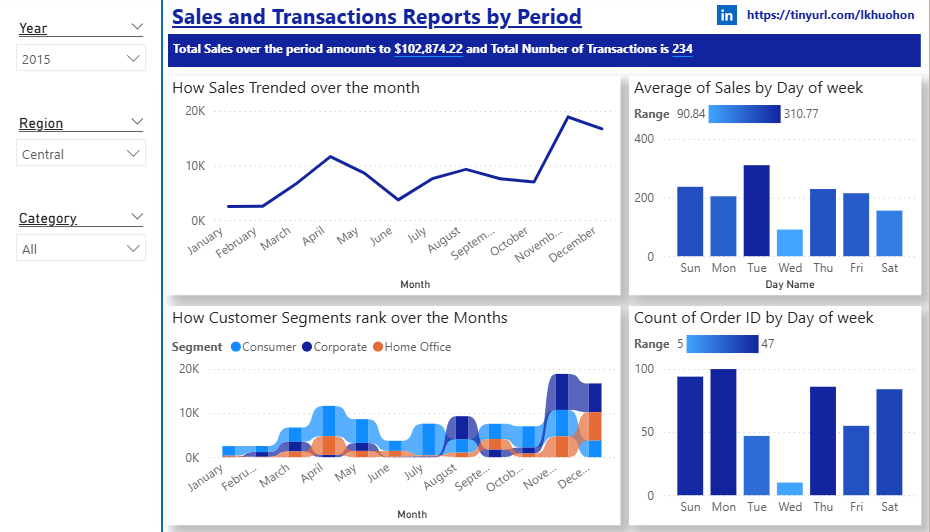

What the dashboard file says about the page in this screenshot:
{"tool":"powerbi","page":{"name":"Periodic Report","canvas":[929,537],"ordinal":1},"visuals":[{"type":"shape","box":[157.2,0,12,537],"z":0},{"type":"textbox","box":[167.7,0,435.2,38.1],"z":1000},{"type":"textbox","box":[169,38,752,33],"z":2000},{"type":"lineChart","title":"How Sales Trended over the month","fields":{"Y":["Sum(Orders.Sales)"],"Category":["Orders.Order Date.Variation.Date Hierarchy.Month"]},"box":[168,80,453,219],"z":3000},{"type":"ribbonChart","title":"How Customer Segments rank over the Months","fields":{"Category":["Orders.Order Date.Variation.Date Hierarchy.Month"],"Y":["Sum(Orders.Sales)"],"Series":["Orders.Segment"]},"box":[168,310,453,219],"z":4000},{"type":"columnChart","title":"Average of Sales by Day of week","fields":{"Category":["Orders.Day Name"],"Y":["Avg(Orders.Sales)"]},"box":[629,80,292,219],"z":5000},{"type":"columnChart","title":"Count of Order ID by Day of week","fields":{"Category":["Orders.Day Name"],"Y":["CountNonNull(Orders.Order ID)"]},"box":[629,310,292,219],"z":6000},{"type":"slicer","fields":{"Values":["Orders.Order Date.Variation.Date Hierarchy.Year"]},"box":[7,19,150,80],"z":7000},{"type":"slicer","fields":{"Values":["Orders.Region"]},"box":[7,114,150,80],"z":8000},{"type":"slicer","fields":{"Values":["Orders.Category"]},"box":[7,209,150,80],"z":9000},{"type":"textbox","box":[741.8,4.1,179,29.8],"z":10000},{"type":"image","title":"https://tinyurl.com/Ikhuohon","box":[711.9,4.1,29.8,29.8],"z":11000}]}

Visuals, with their boxes on the page's 929x537 design canvas (x1, y1, x2, y2). These are canvas units, not pixel positions in the 930x532 screenshot, which may show the page scaled, cropped or inside an application window:
shape: x1=157, y1=0, x2=169, y2=537
textbox: x1=168, y1=0, x2=603, y2=38
textbox: x1=169, y1=38, x2=921, y2=71
"How Sales Trended over the month" lineChart: x1=168, y1=80, x2=621, y2=299
"How Customer Segments rank over the Months" ribbonChart: x1=168, y1=310, x2=621, y2=529
"Average of Sales by Day of week" columnChart: x1=629, y1=80, x2=921, y2=299
"Count of Order ID by Day of week" columnChart: x1=629, y1=310, x2=921, y2=529
slicer - Orders.Order Date.Variation.Date Hierarchy.Year: x1=7, y1=19, x2=157, y2=99
slicer - Orders.Region: x1=7, y1=114, x2=157, y2=194
slicer - Orders.Category: x1=7, y1=209, x2=157, y2=289
textbox: x1=742, y1=4, x2=921, y2=34
"https://tinyurl.com/Ikhuohon" image: x1=712, y1=4, x2=742, y2=34
